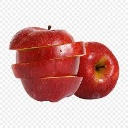apple: (8, 27, 85, 104)
